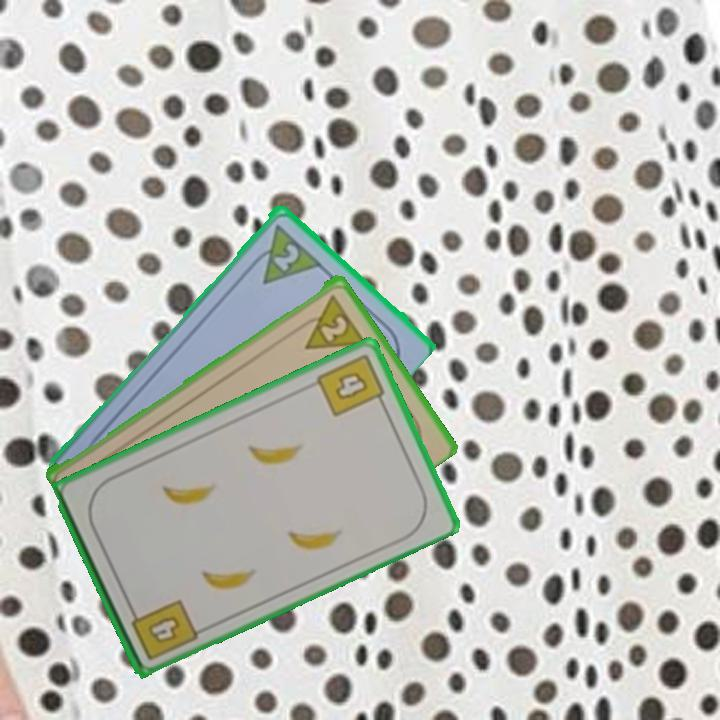2p: (244, 219, 323, 287), (292, 290, 368, 353)
4b: (313, 349, 389, 420), (125, 595, 201, 663)
